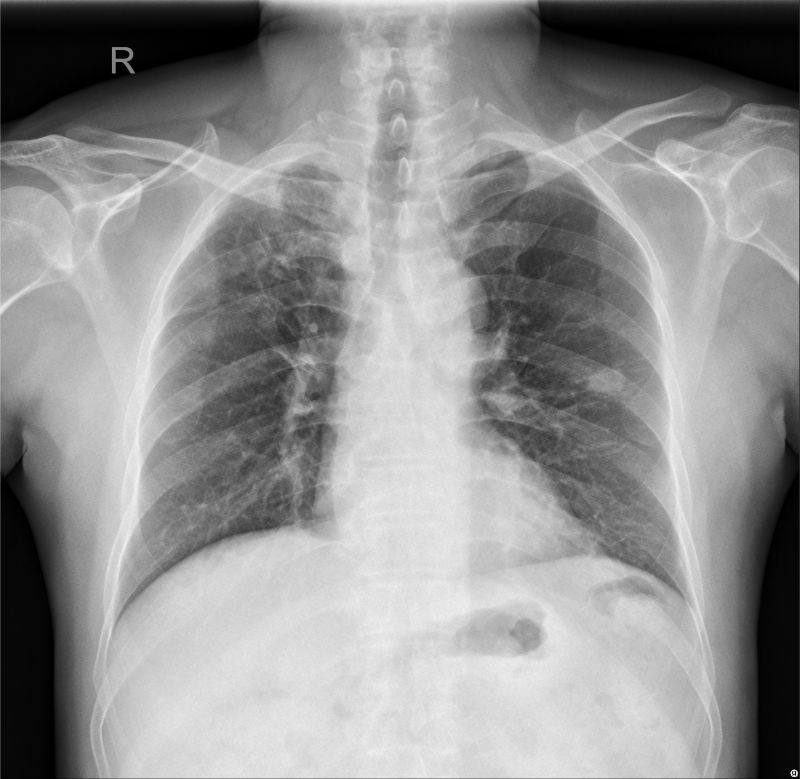Tuberculosis (TB): (578, 363, 635, 408)
